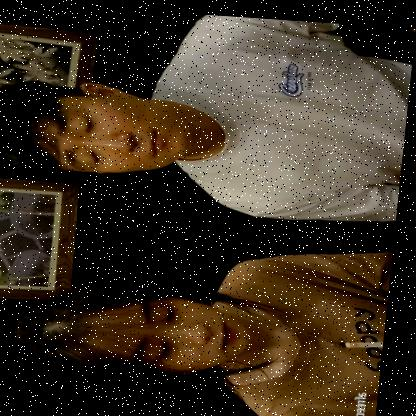streamer: (0, 0, 416, 220), (10, 226, 398, 416)
